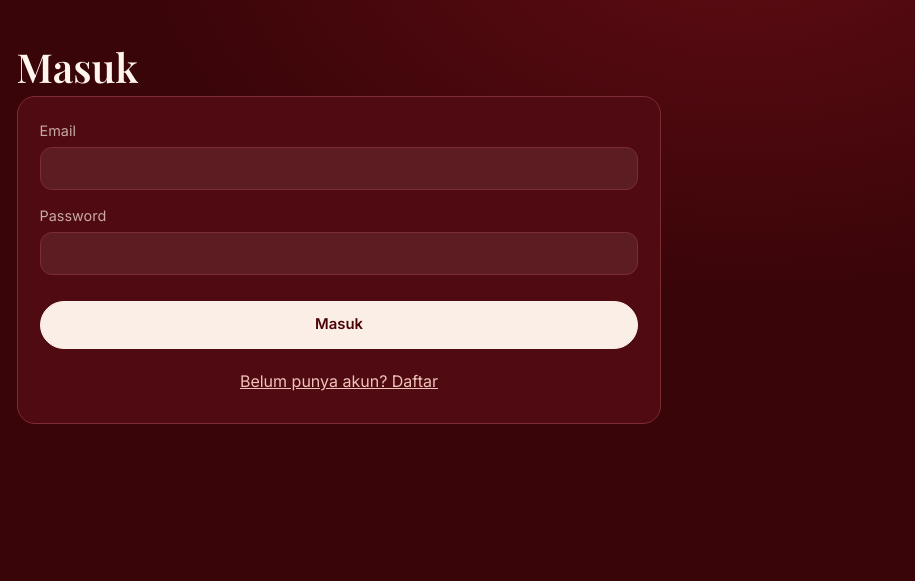
Test case: Account › menampilkan error login dan dapat kembali ke mode masuk
In the field labelled "Email": point(339, 168) [40,147,638,190], type "x@mail.com"
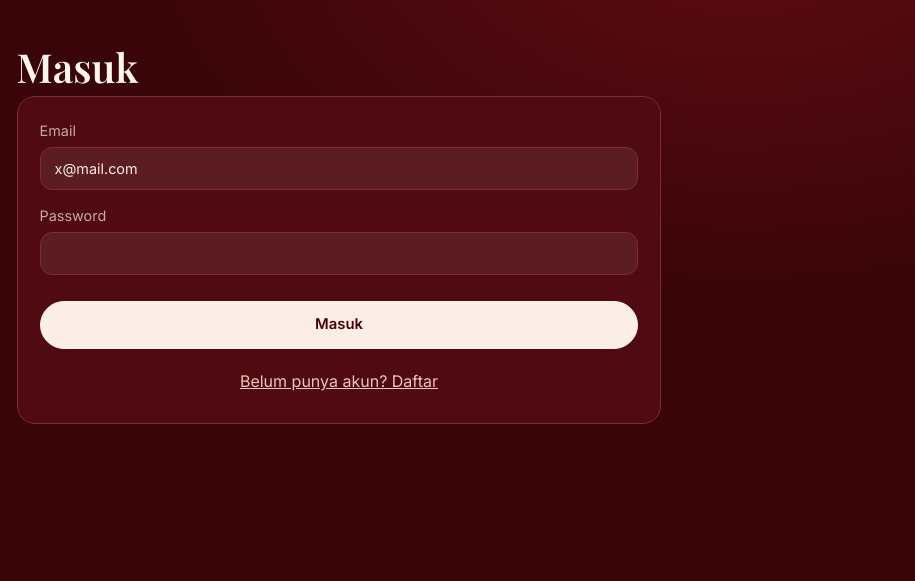
In the password field labelled "Password": point(339, 254) [40,232,638,275], type "salah123"
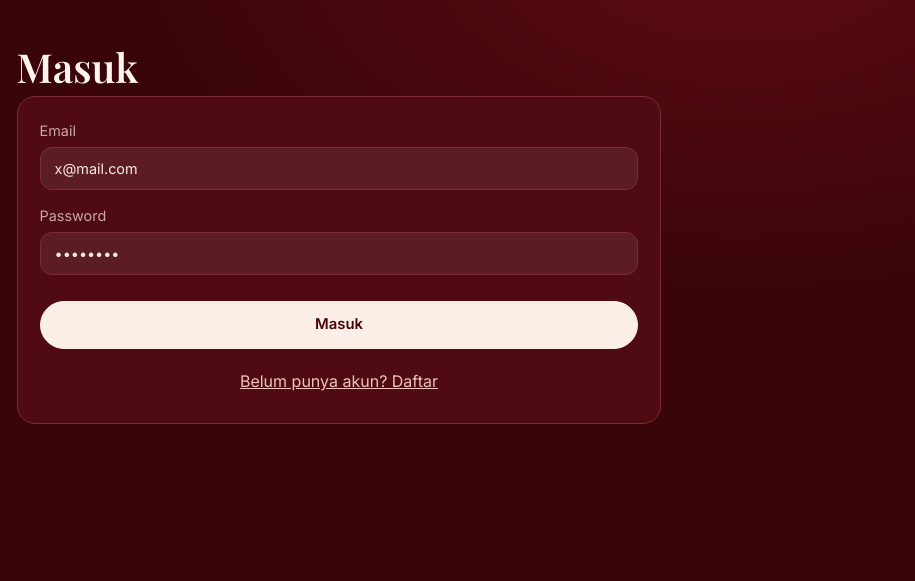
Click the button "Masuk": point(339, 325) [40,301,638,349]
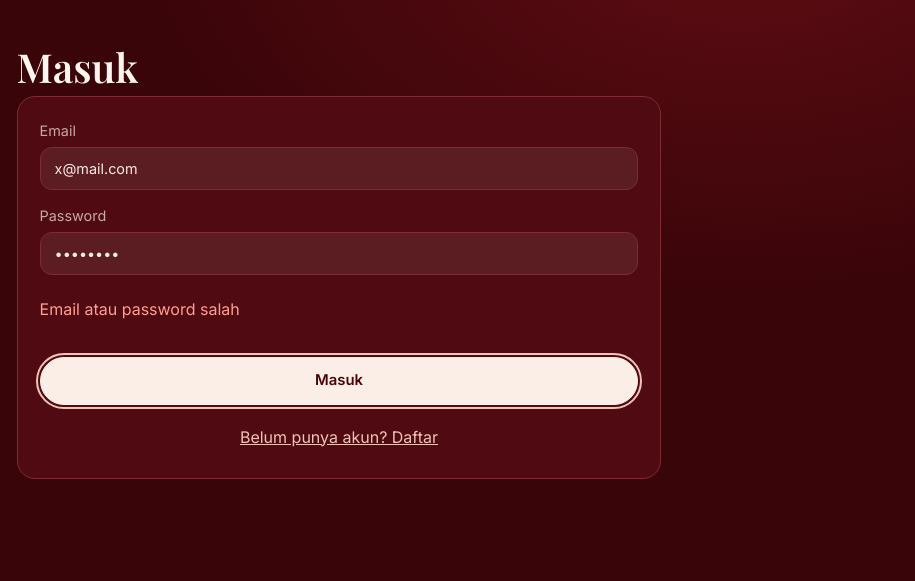
expect the text "Email atau password salah" is shown: met, box [40,299,240,319]
Click the button "Belum punya akun? Daftar": point(339, 437) [40,418,638,456]
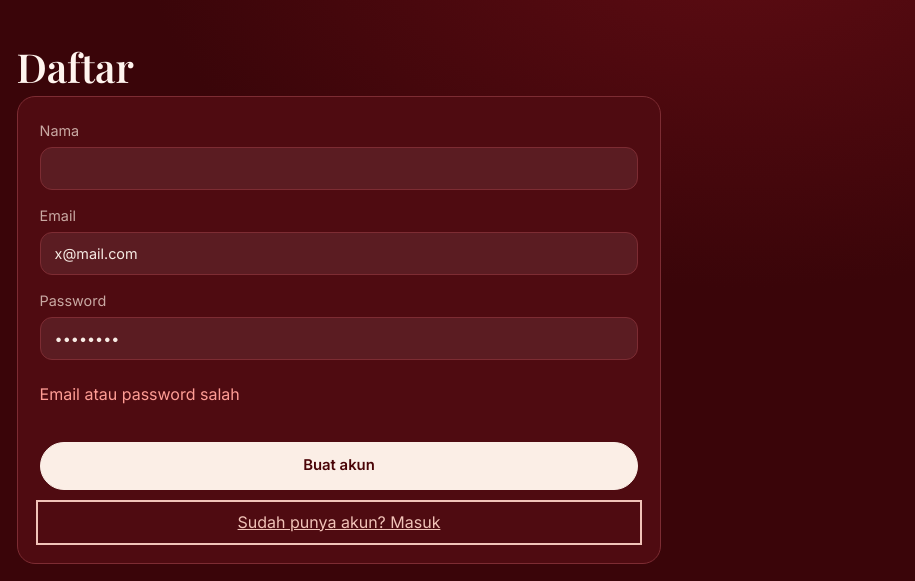
Click the button "Sudah punya akun? Masuk": point(339, 522) [40,504,638,541]
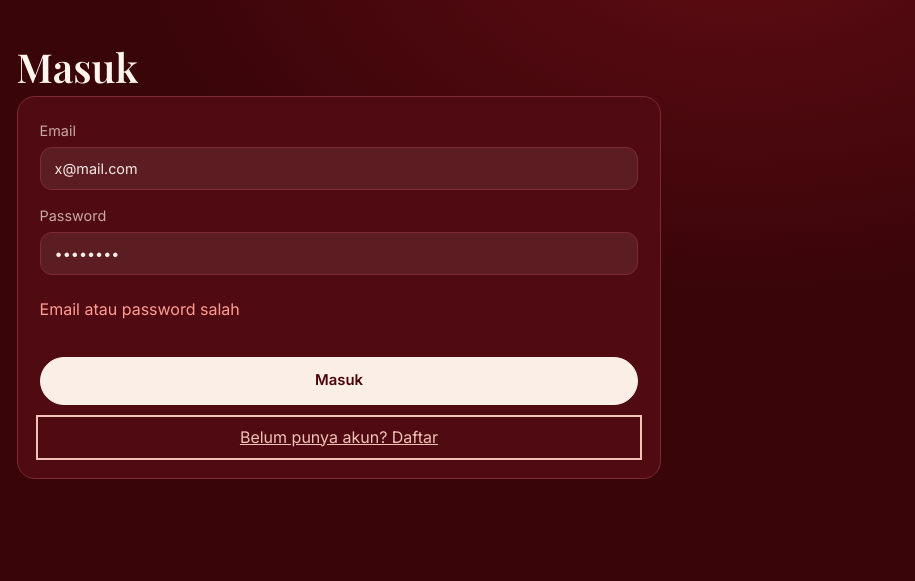
expect the heading "Masuk" is shown: met, box [17,40,138,93]
